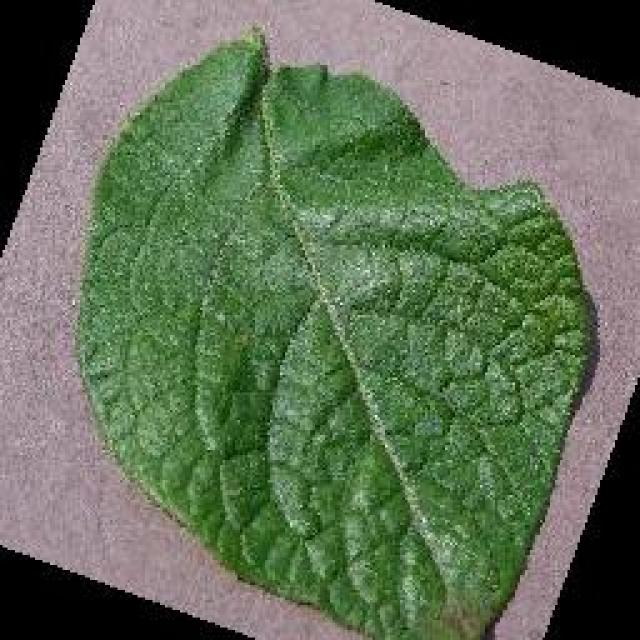Potato___healthy: (73, 41, 588, 638)
